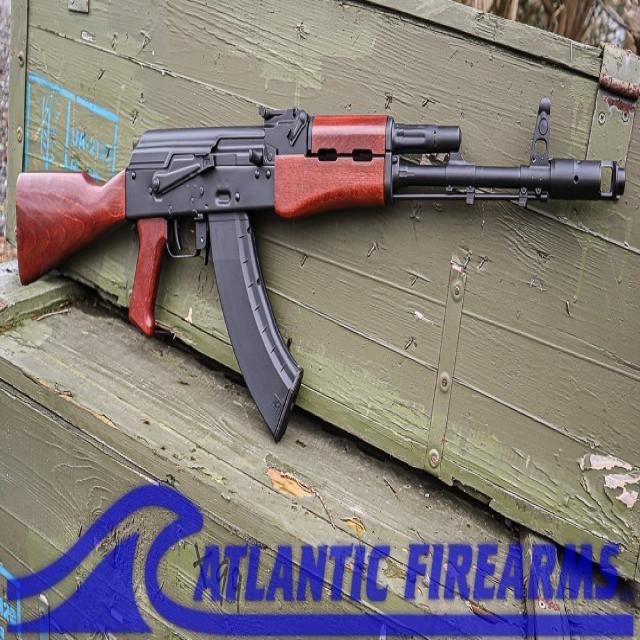weapon: (14, 98, 626, 446)
